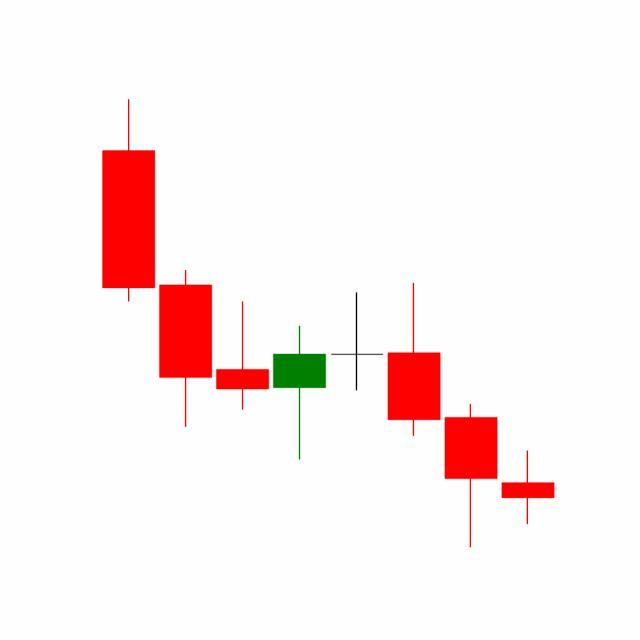Three Outside Up-Down: (328, 279, 500, 548)
